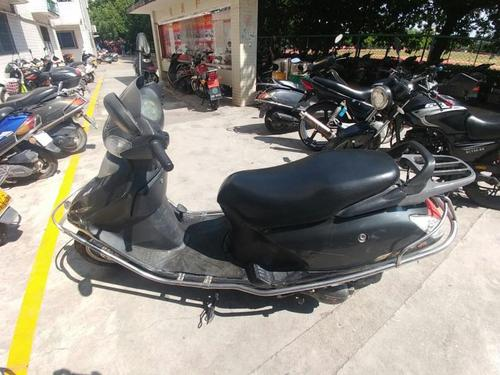motor: (42, 88, 468, 341)
